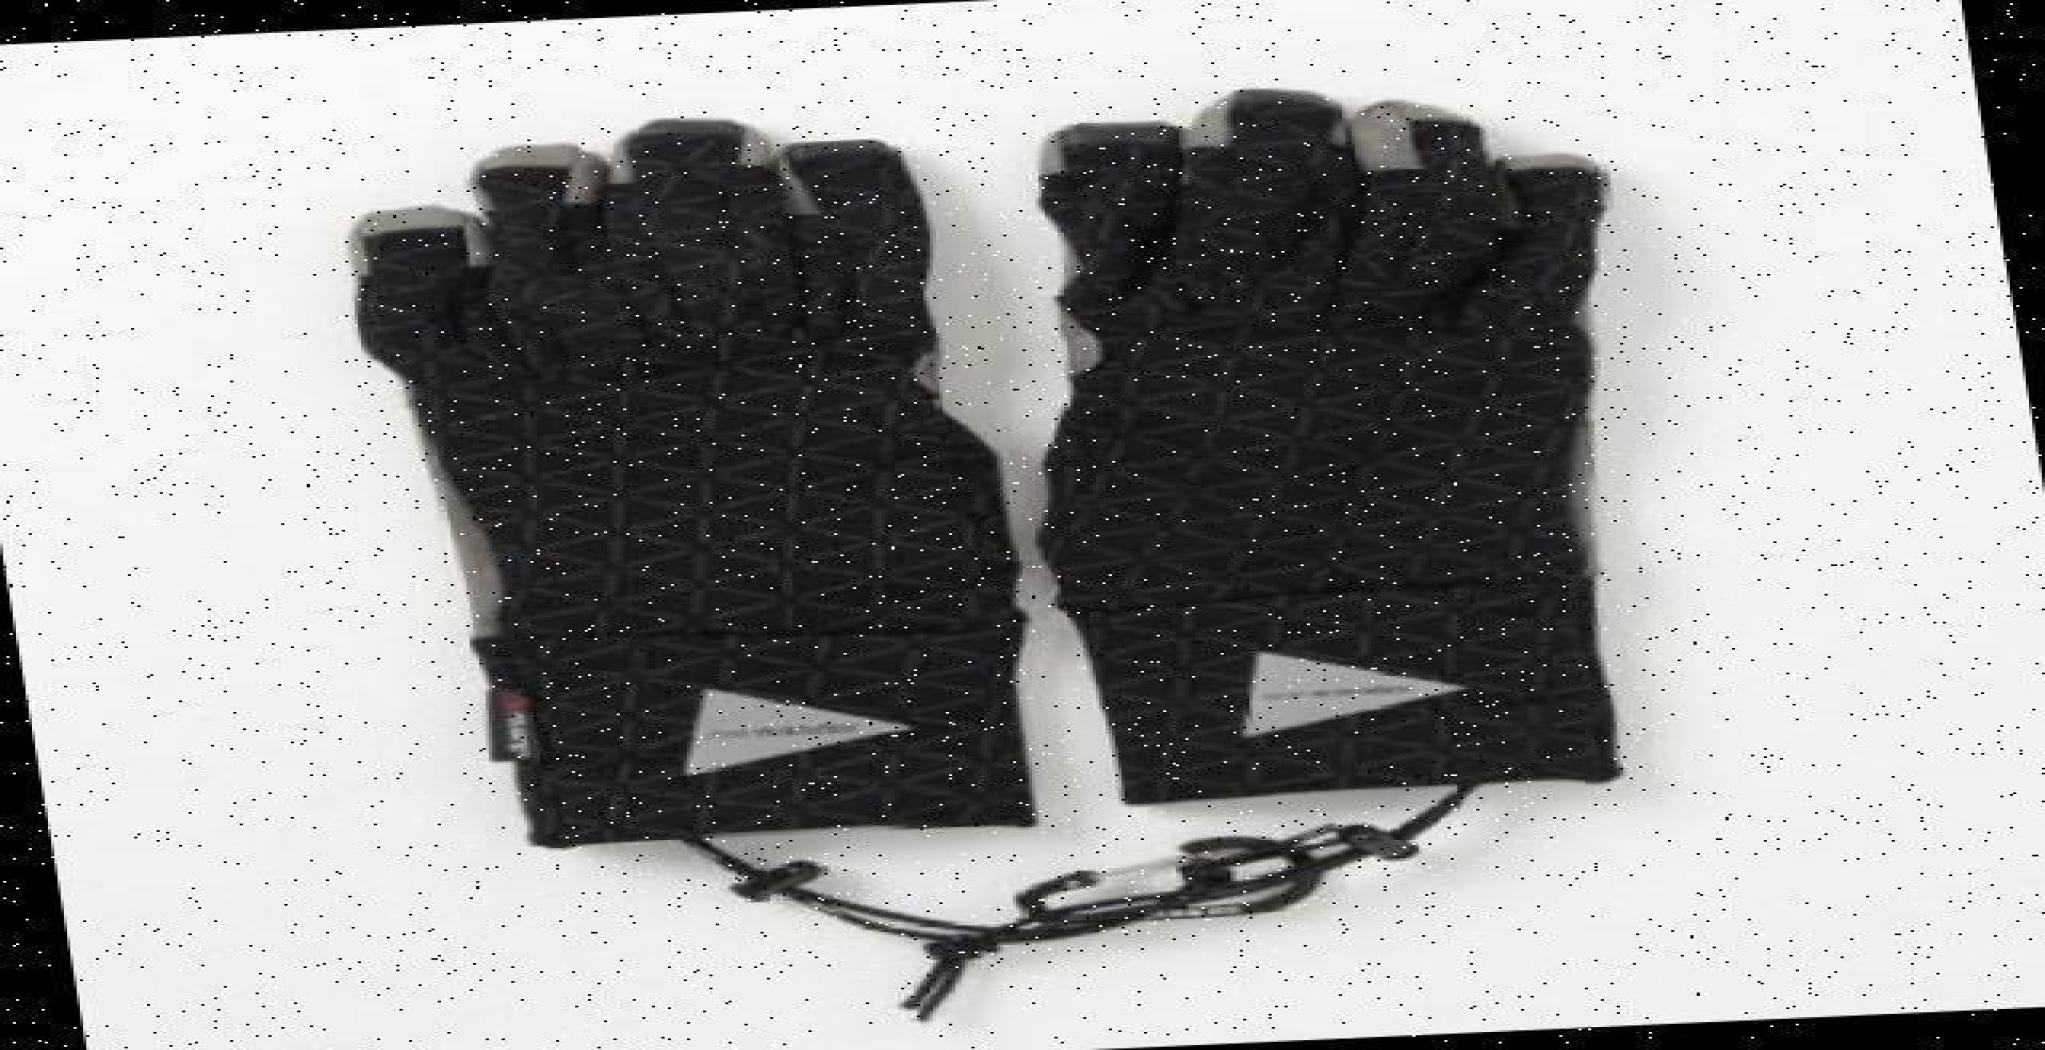gloved: (327, 146, 1051, 734), (1023, 99, 1661, 651)
